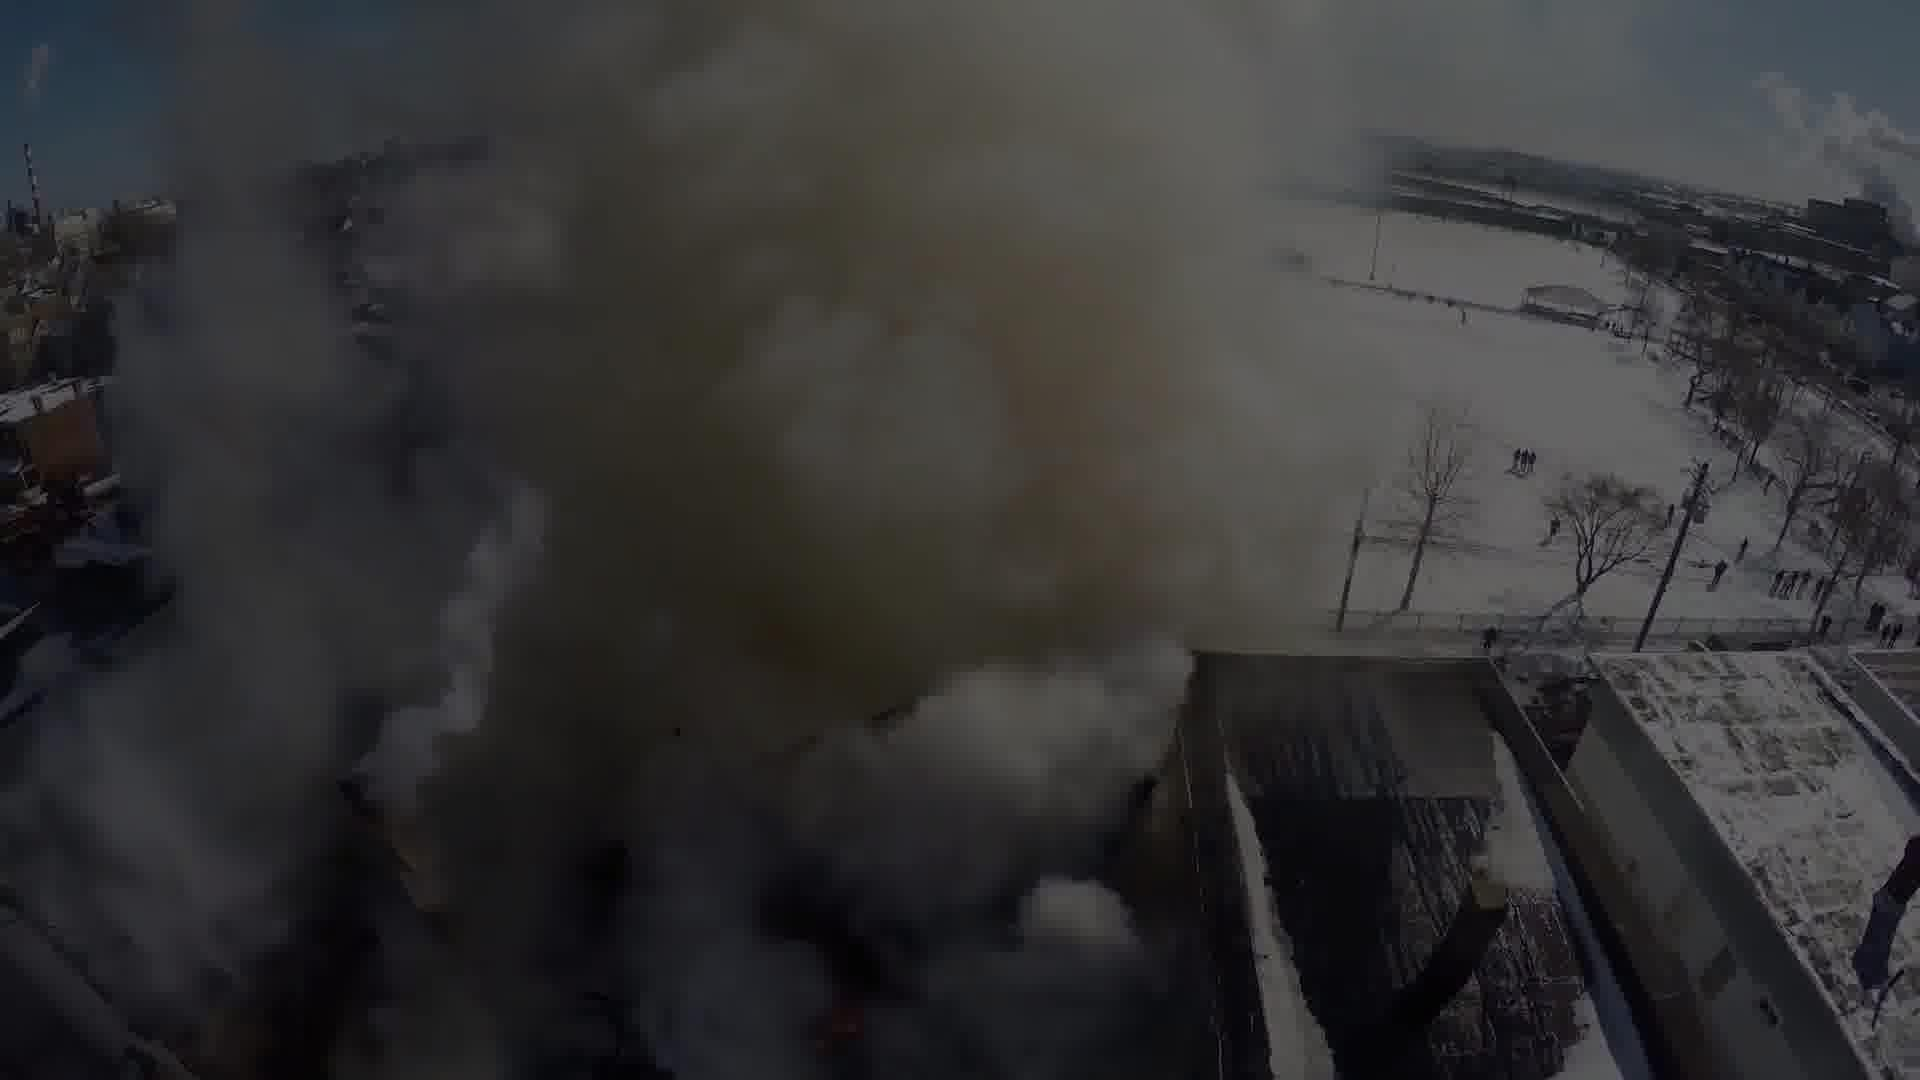smoke: (480, 90, 1156, 1011)
